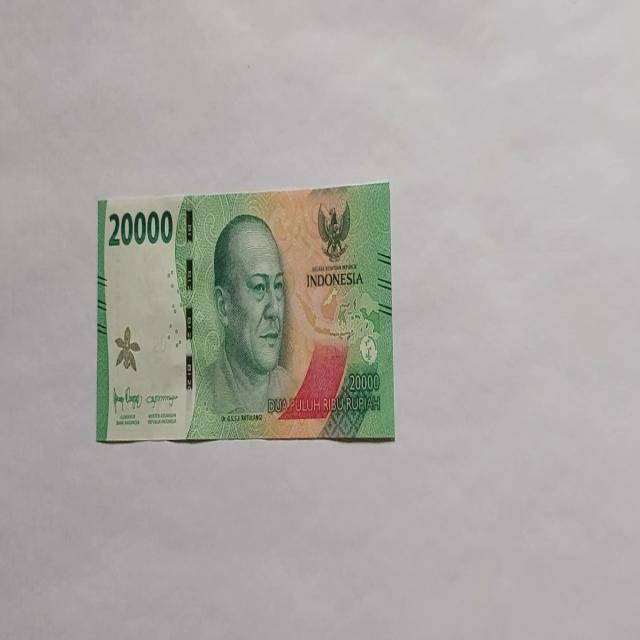dua puluh ribu rupiah: (96, 180, 394, 444), (187, 211, 299, 437)
